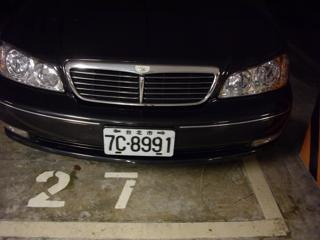plate: (102, 126, 176, 158)
